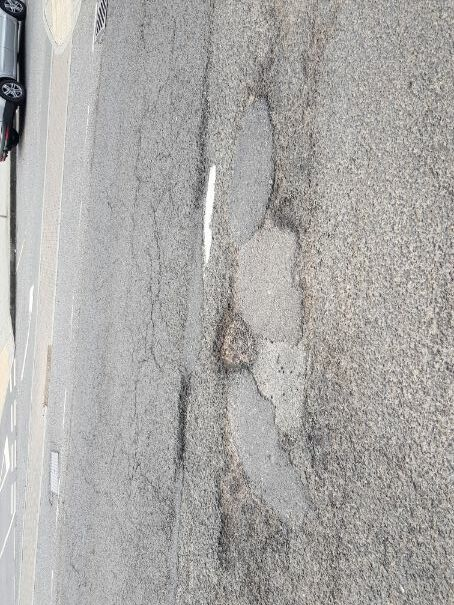pothole: (209, 461, 256, 575), (204, 301, 268, 373), (262, 156, 309, 235), (170, 373, 199, 462)
